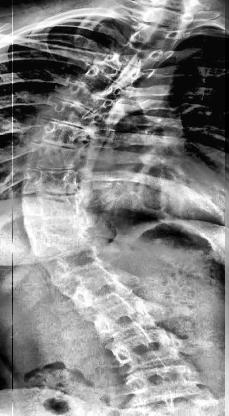Vertebrae: (102, 329, 180, 371), (123, 364, 203, 398), (70, 288, 140, 322), (90, 304, 156, 338), (31, 118, 94, 152), (40, 97, 102, 131), (54, 270, 119, 302), (56, 81, 114, 116), (34, 249, 104, 277), (94, 52, 150, 86), (28, 230, 94, 258), (113, 38, 169, 70), (76, 66, 128, 100), (22, 168, 80, 196), (27, 142, 84, 170), (130, 22, 186, 50), (22, 214, 90, 236), (144, 5, 196, 31), (22, 196, 82, 218)
